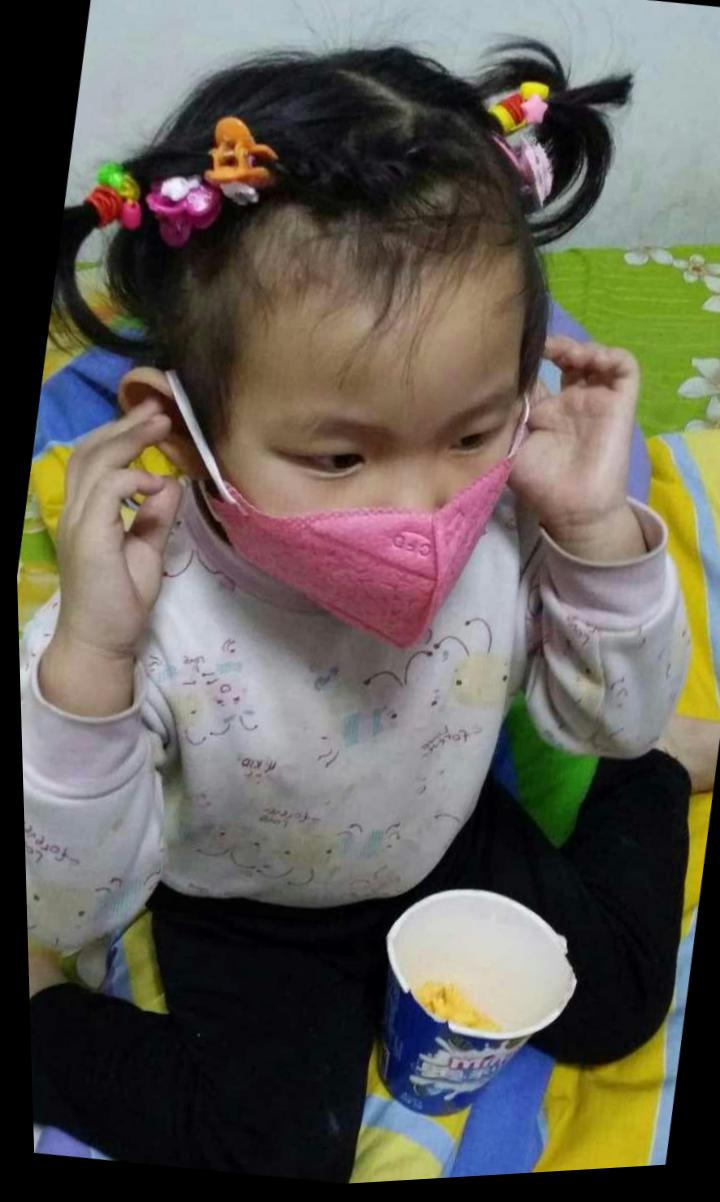WRONG: (199, 316, 528, 672)
